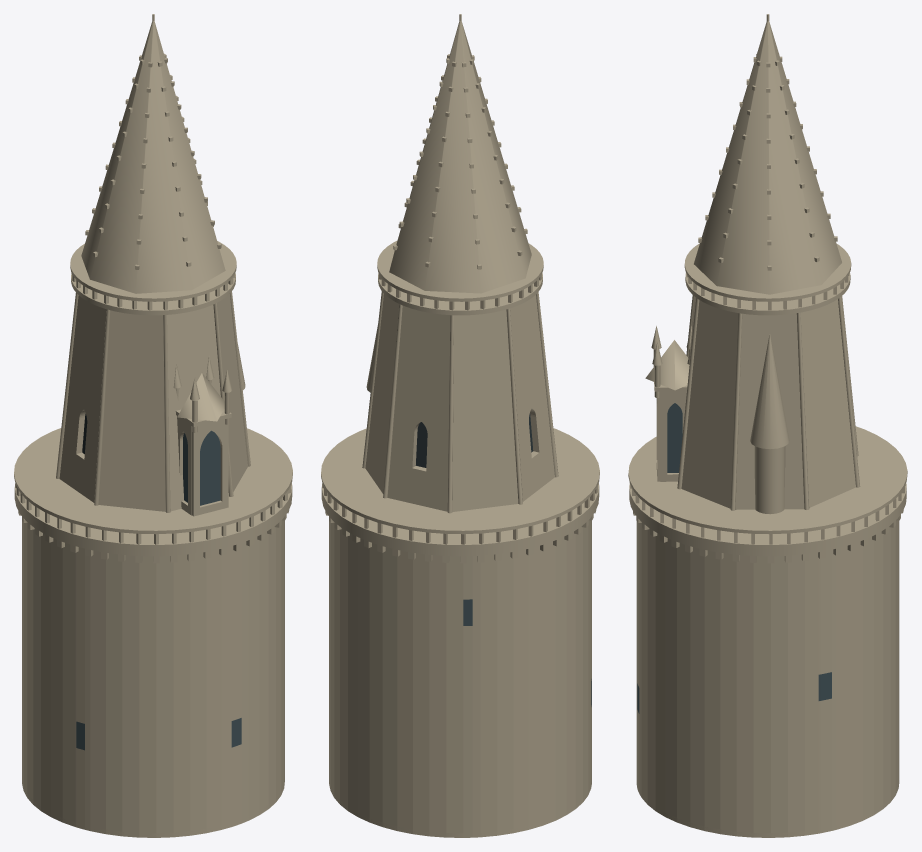
Rendered from tour-lanterne-rochelle-near.glb.
3 views of the same model, side by side, from view 1: azimuth 30°, elevation 25°; view 2: azimuth 150°, elevation 25°; view 3: azimuth 270°, elevation 25° (orthographic).
Parts seen in each view (by area): view 1: tour-lanterne-rochelle-0-plaster, tour-lanterne-rochelle-0-glass; view 2: tour-lanterne-rochelle-0-plaster, tour-lanterne-rochelle-0-shadow; view 3: tour-lanterne-rochelle-0-plaster, tour-lanterne-rochelle-0-glass.
Part boxes in pixels (x1,y1,x2,y2): tour-lanterne-rochelle-0-plaster: [14, 14, 292, 837]; tour-lanterne-rochelle-0-glass: [76, 430, 241, 750]; tour-lanterne-rochelle-0-plaster: [321, 14, 599, 837]; tour-lanterne-rochelle-0-shadow: [415, 413, 533, 467]; tour-lanterne-rochelle-0-plaster: [628, 14, 907, 837]; tour-lanterne-rochelle-0-glass: [637, 403, 831, 713].
Size of the model in its own units: 19.1 by 58 by 19.1.
